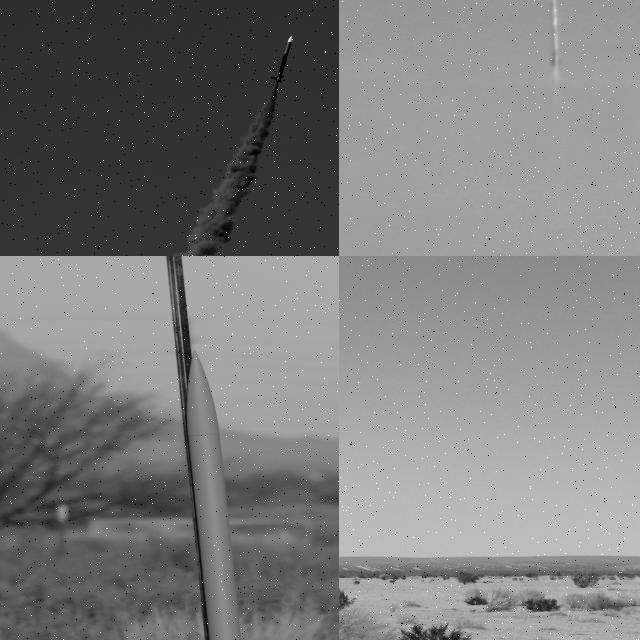Rocket: (176, 349, 271, 640), (271, 35, 293, 83), (550, 0, 561, 64)
